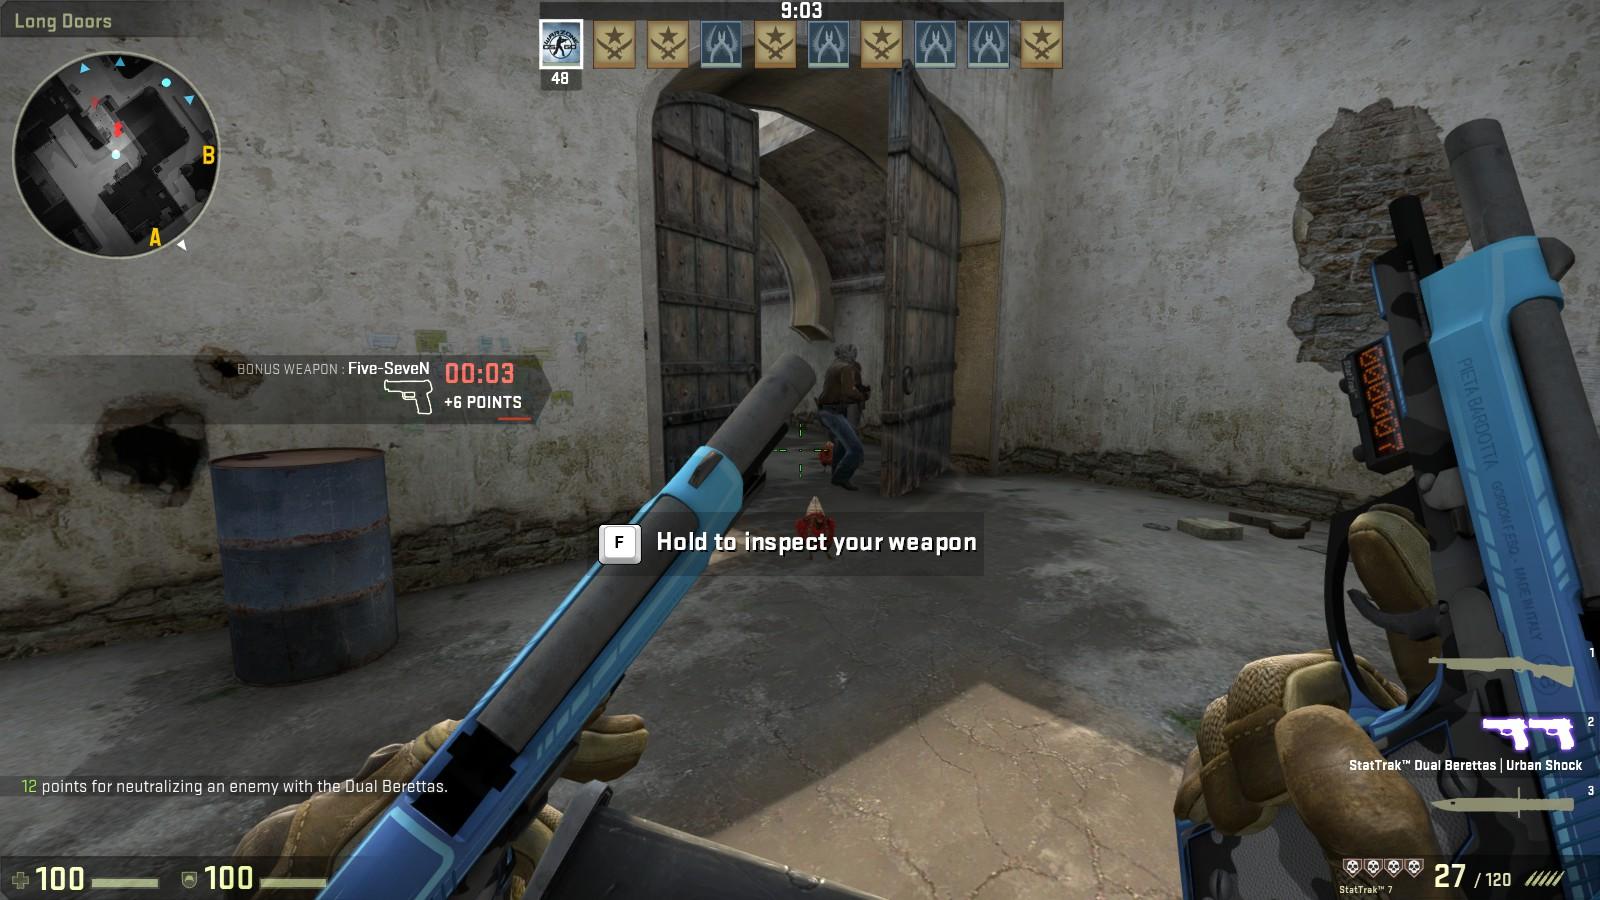t: (809, 338, 873, 490)
th: (829, 337, 865, 371)
